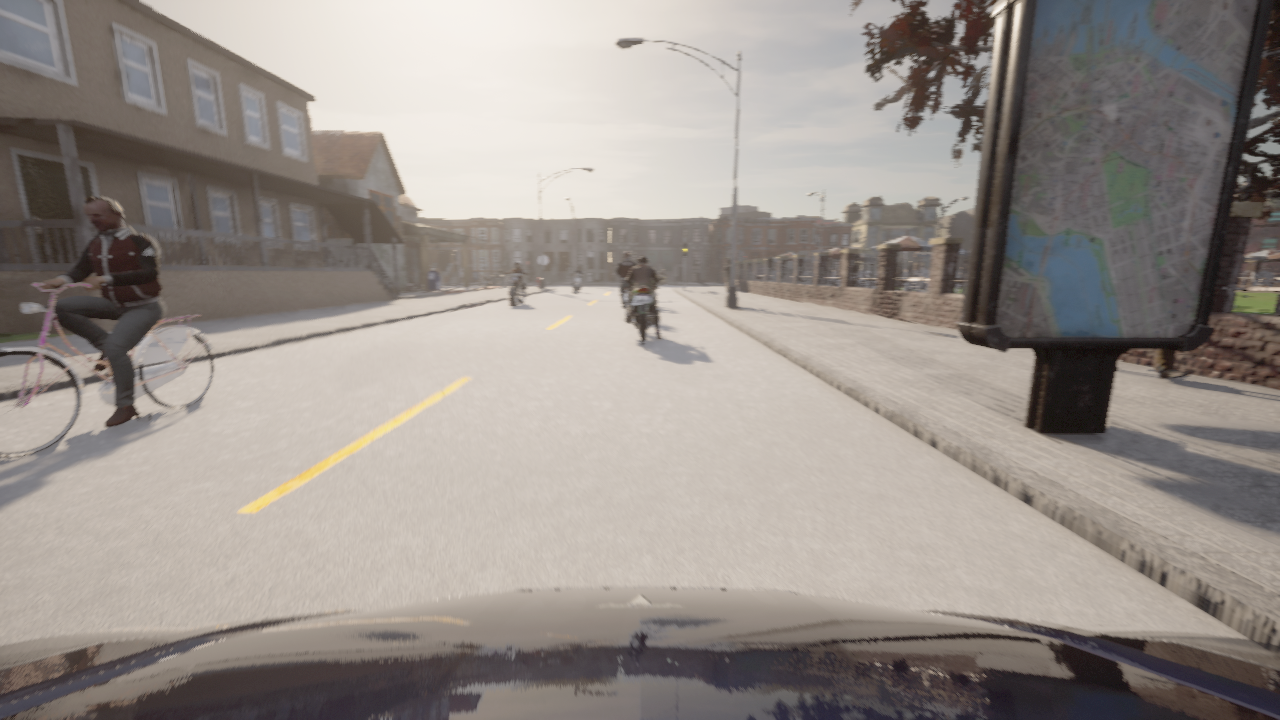cyclist: (0, 588, 1279, 719), (0, 283, 213, 458), (622, 278, 663, 344), (505, 271, 525, 307), (486, 269, 505, 285), (570, 272, 581, 292), (622, 288, 629, 316), (657, 274, 666, 286)
pedestrian: (1116, 288, 1219, 379), (723, 261, 730, 285)
